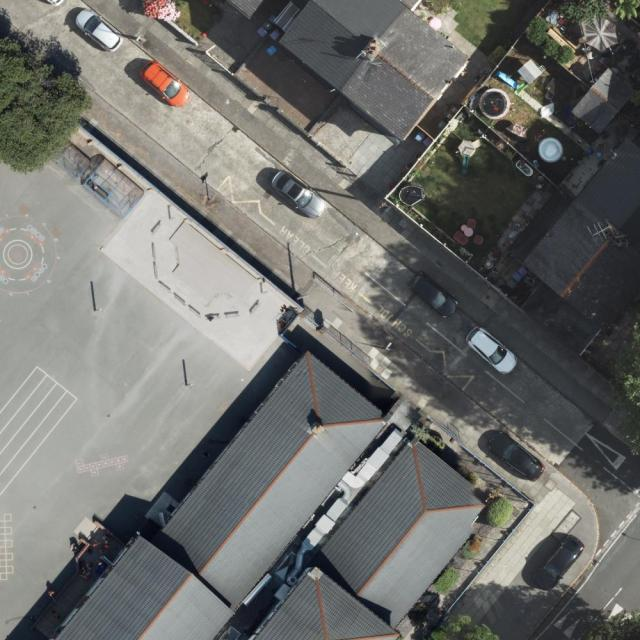roof: (50, 345, 391, 640), (246, 438, 492, 640), (277, 0, 473, 140), (524, 140, 640, 334), (573, 66, 640, 136), (223, 0, 266, 20)
